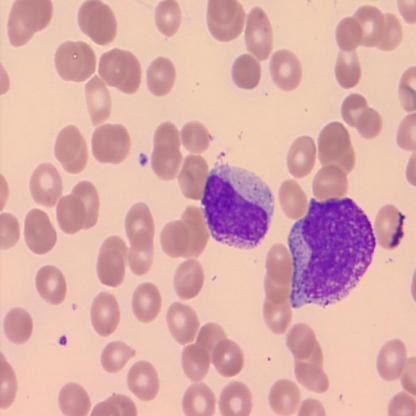Myelocyte: (291, 195, 374, 304), (201, 166, 273, 247)
